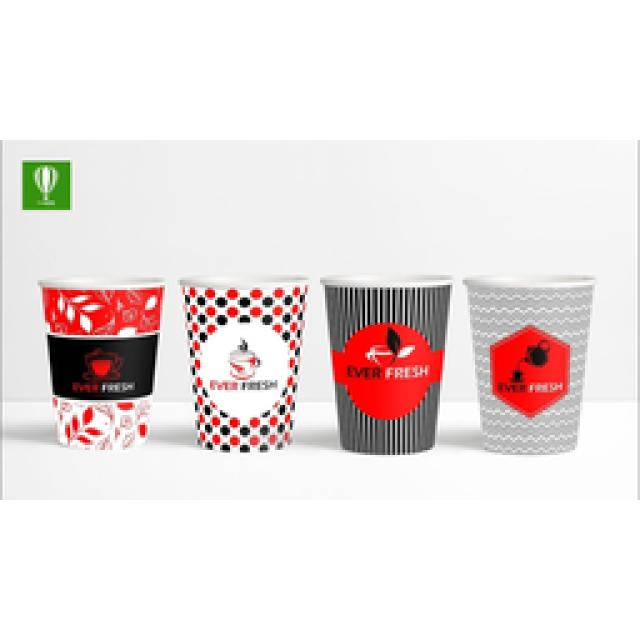paper_cups: (463, 270, 598, 454), (175, 269, 308, 455), (34, 269, 166, 449), (319, 275, 451, 453)
